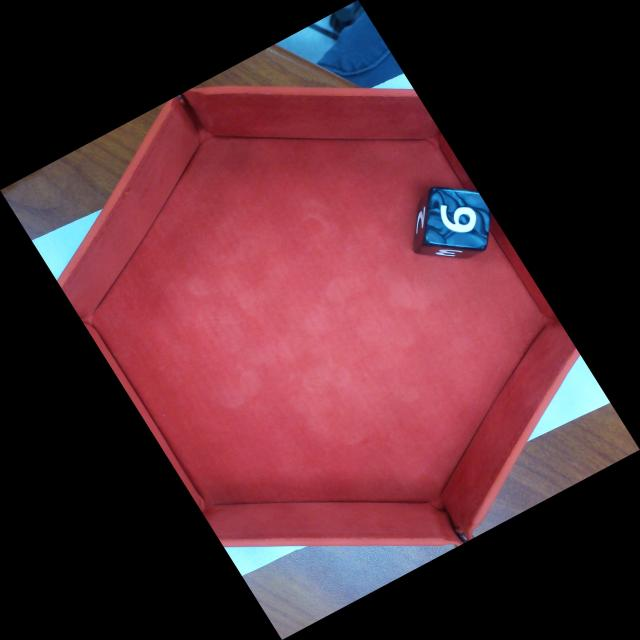dice: (425, 189, 489, 246)
